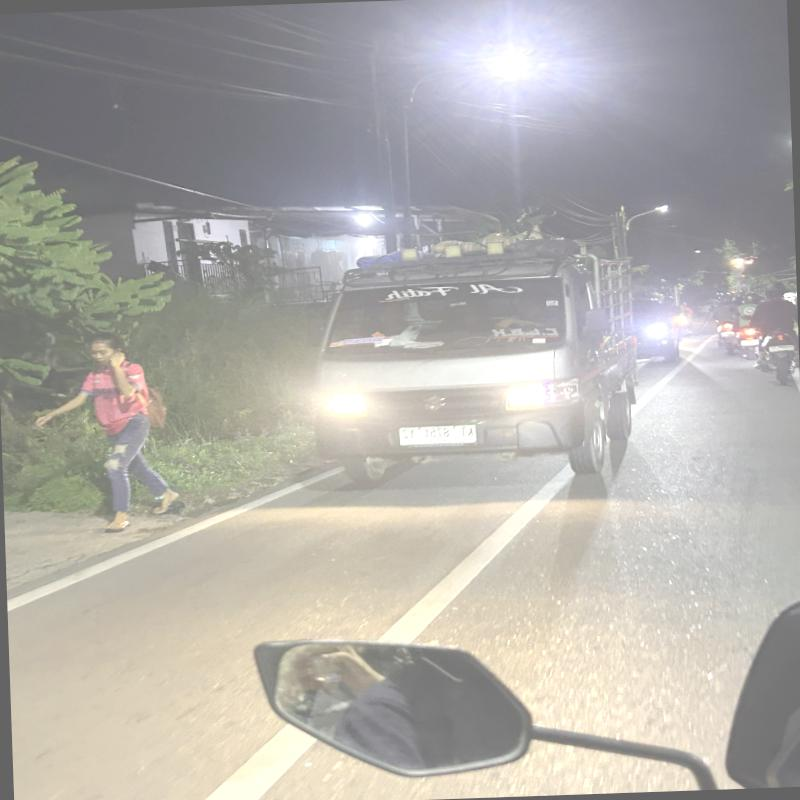license plate on a car: (389, 420, 480, 454)
